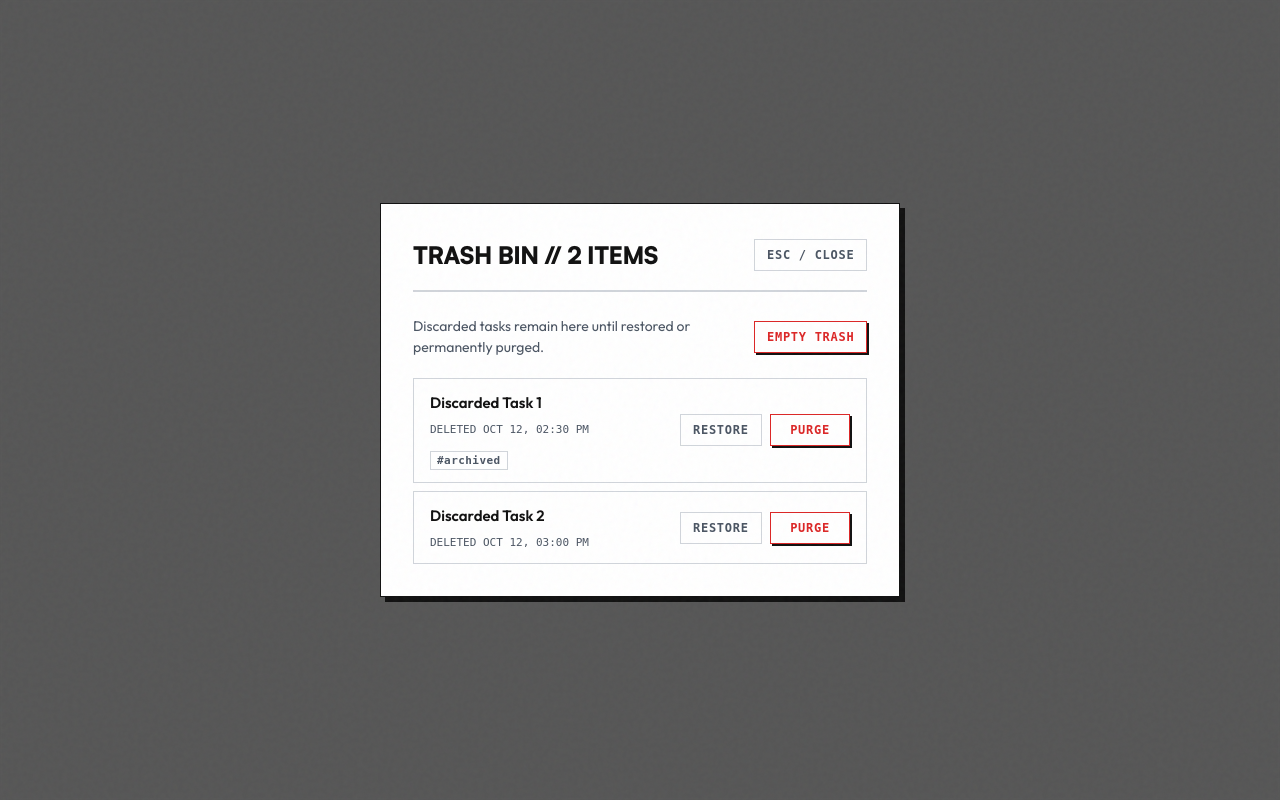
Test case: TrashModal › opens empty trash confirmation modal when EMPTY TRASH is clicked
The width and height of the screenshot is (1280, 800).
Click the button "EMPTY TRASH". click: (810, 337)
box: [754,321,867,353]
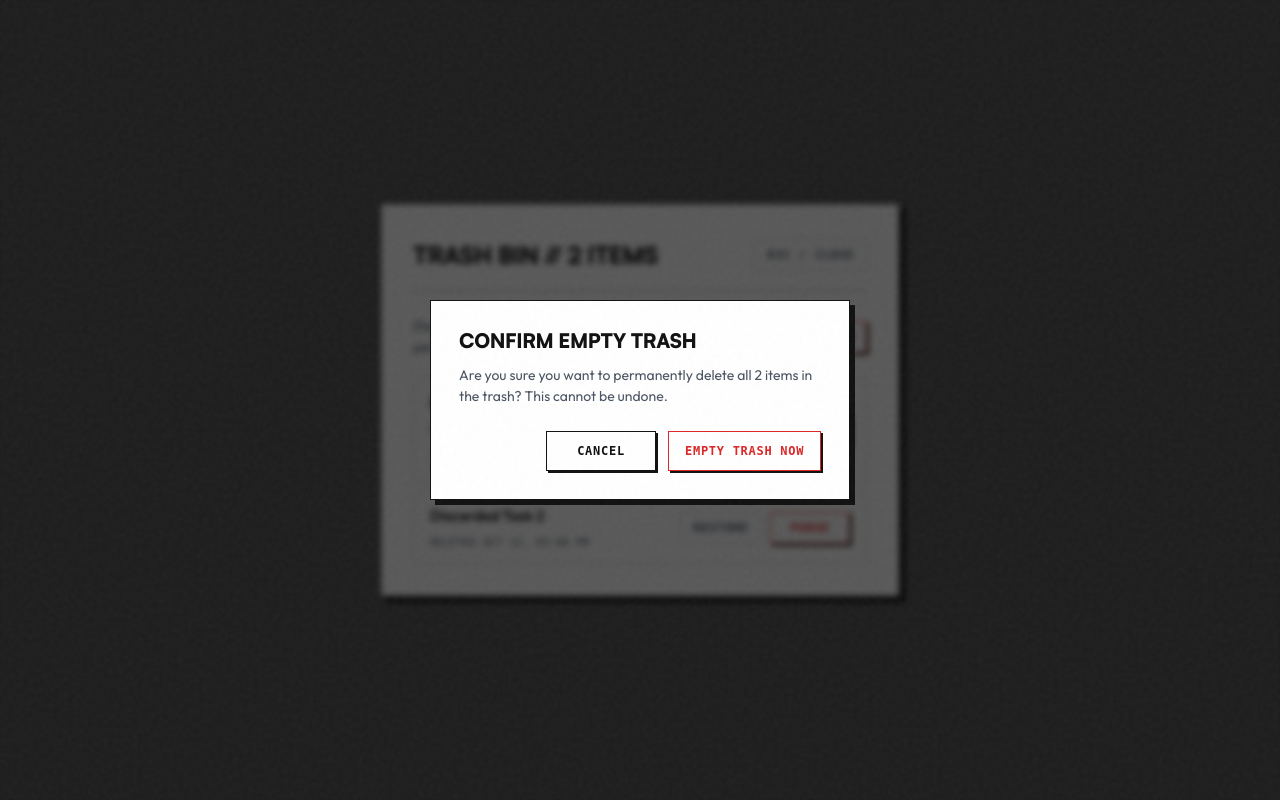
Check: the text "Are you sure you want to permanently delete all 2 items in the trash?" is shown, box [459,366,812,405]
